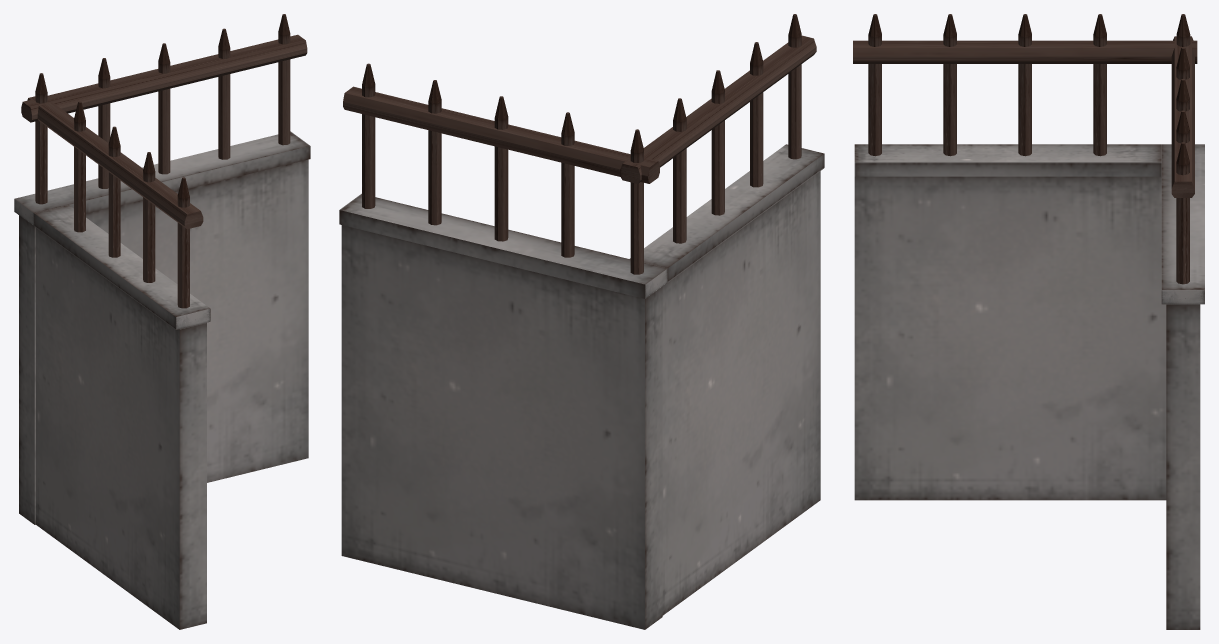
File: Fall_City_2.fbx
The picture shows the model from 3 angles, left to right: view 1: azimuth 30°, elevation 25°; view 2: azimuth 150°, elevation 25°; view 3: azimuth 270°, elevation 25°; orthographic projection. The views are drawn at different scales.
Parts seen in each view (by area): view 1: Cube.123; view 2: Cube.123; view 3: Cube.123.
Boxes of the visible parts, bbox=[...] form: Cube.123: bbox=[14, 14, 310, 629]; Cube.123: bbox=[339, 14, 824, 629]; Cube.123: bbox=[853, 14, 1204, 629].
Bounding box in the file's own units: 1.02 × 1.55 × 1.03.
